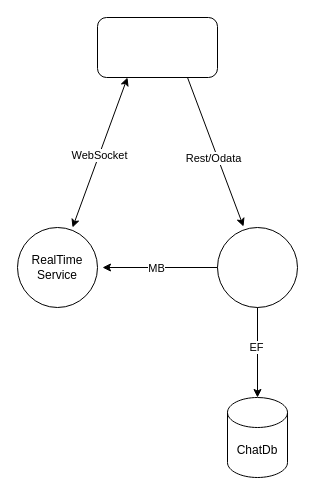
This 315x495 diagram has some shape labels left out. Here are the shapes that lost their labels. From the top down, the box of each, then its label:
(96, 16, 218, 78): WebClient
(216, 226, 298, 308): ChatApi
